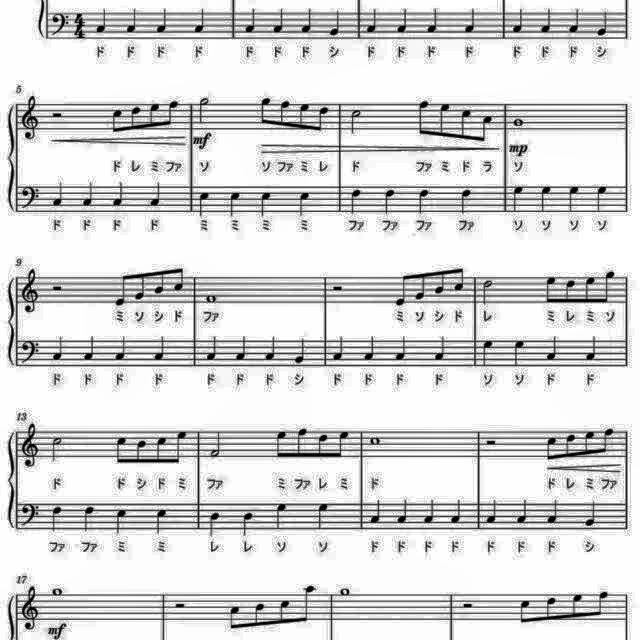Bass-clef: (18, 499, 42, 529), (21, 183, 44, 213), (48, 10, 70, 40), (21, 338, 44, 366)
Eighth-note: (299, 582, 319, 626), (170, 426, 190, 466), (112, 270, 132, 310), (415, 96, 433, 140), (456, 106, 474, 146), (391, 270, 409, 310), (436, 101, 452, 143), (478, 112, 496, 148), (114, 430, 132, 466), (224, 603, 243, 637), (514, 592, 534, 624), (601, 266, 617, 306), (540, 272, 558, 306), (107, 105, 125, 139), (292, 426, 308, 462), (152, 432, 168, 468), (591, 586, 609, 618), (543, 590, 561, 622), (598, 424, 616, 456), (128, 102, 146, 134), (314, 102, 332, 134), (413, 268, 429, 302), (132, 268, 148, 302), (258, 92, 274, 126), (274, 426, 290, 459), (582, 274, 598, 306), (433, 266, 449, 298), (568, 589, 584, 621), (252, 600, 268, 632), (295, 100, 311, 132), (336, 430, 352, 462), (150, 266, 166, 298), (562, 430, 578, 462), (146, 98, 162, 130), (170, 262, 186, 294), (542, 432, 558, 464), (582, 428, 598, 459), (562, 275, 578, 305), (134, 437, 150, 467), (276, 596, 292, 626), (314, 431, 330, 461), (166, 96, 180, 128), (278, 98, 292, 130), (452, 262, 466, 294)
Full-note: (49, 582, 67, 602), (368, 434, 384, 450), (203, 290, 221, 304), (512, 114, 528, 128), (338, 586, 354, 598)
Half-note: (47, 434, 65, 466), (207, 426, 225, 458), (195, 92, 212, 124), (479, 276, 497, 306), (348, 106, 364, 138)
Half-rest: (328, 278, 350, 294), (49, 106, 67, 122), (171, 598, 189, 612), (459, 598, 477, 612), (47, 280, 65, 294), (484, 435, 500, 449)
Quarter-note: (510, 184, 528, 216), (511, 337, 529, 369), (479, 338, 497, 370), (583, 498, 601, 530), (192, 4, 210, 36), (81, 502, 99, 534), (593, 6, 611, 38), (565, 183, 583, 214), (314, 501, 332, 532), (535, 183, 553, 214), (112, 506, 130, 536), (147, 182, 165, 212), (415, 187, 433, 217), (424, 7, 442, 37), (392, 333, 410, 363), (153, 333, 171, 363), (151, 506, 169, 536), (239, 509, 257, 538), (206, 509, 224, 538), (382, 186, 398, 218), (328, 6, 344, 38), (50, 502, 66, 534), (594, 181, 610, 213), (242, 4, 258, 36), (537, 4, 553, 36), (203, 333, 220, 363), (434, 333, 451, 363), (51, 180, 68, 210), (233, 333, 250, 363), (196, 190, 214, 218), (274, 501, 290, 532), (154, 7, 170, 38), (80, 332, 96, 363), (584, 333, 600, 363), (110, 181, 126, 211), (348, 187, 364, 217), (332, 333, 348, 363), (125, 7, 141, 37), (546, 496, 562, 526), (458, 187, 474, 217), (80, 180, 96, 210), (260, 190, 276, 220), (462, 6, 478, 36), (396, 496, 412, 526), (292, 337, 308, 367), (422, 497, 438, 527), (300, 7, 316, 37), (394, 5, 410, 35), (512, 5, 528, 35), (94, 5, 110, 35), (361, 333, 377, 363), (566, 5, 582, 35), (52, 335, 68, 365), (225, 192, 242, 220), (264, 333, 280, 362), (546, 336, 562, 364), (368, 498, 384, 526), (115, 336, 131, 364), (486, 498, 502, 526), (296, 190, 312, 218), (513, 498, 529, 526), (448, 498, 464, 526), (272, 6, 288, 34), (364, 8, 380, 36)
Treble-clef: (18, 420, 42, 470), (18, 265, 42, 315), (18, 96, 42, 144), (21, 584, 44, 632)
